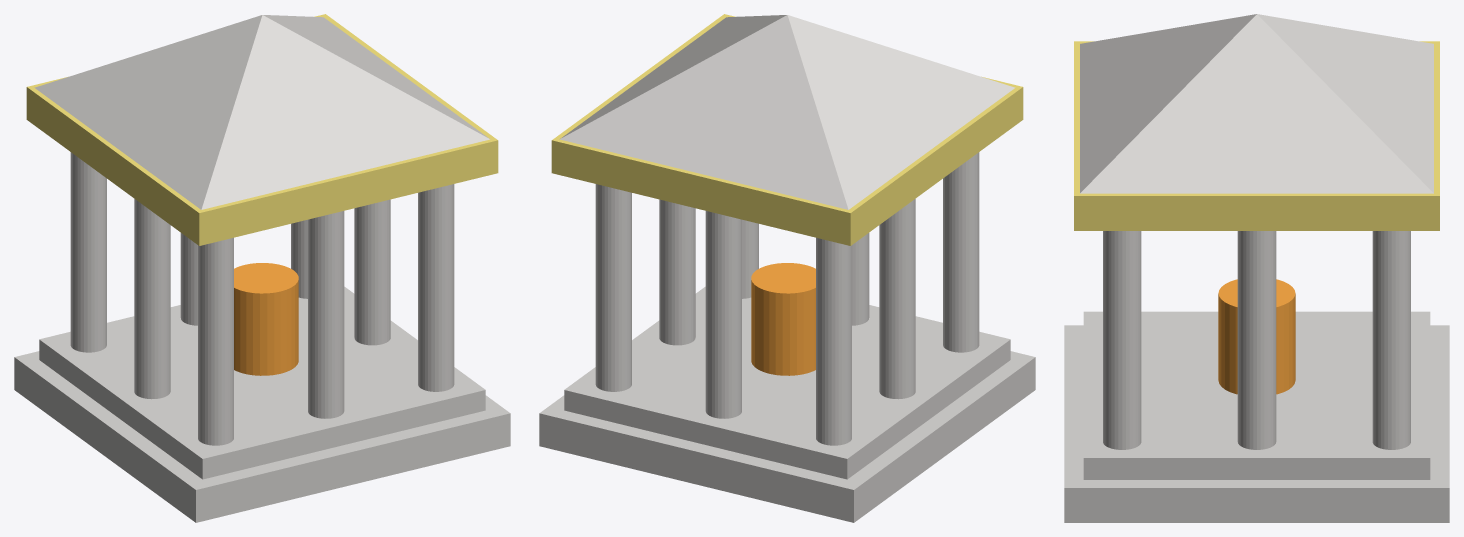
Rendered from temple.glb.
3 views of the same model, side by side, from view 1: azimuth 30°, elevation 25°; view 2: azimuth 150°, elevation 25°; view 3: azimuth 270°, elevation 25° (orthographic). The views are drawn at different scales.
Parts seen in each view (by area): view 1: Cone, Cube.001, Cube, Cube.002, Cylinder.001, Cylinder.002, Cylinder, Cylinder.008, Cylinder.003, Cylinder.006, Cylinder.007, Cylinder.004 (+1 smaller); view 2: Cone, Cube.001, Cube, Cube.002, Cylinder.004, Cylinder.005, Cylinder.003, Cylinder.008, Cylinder, Cylinder.006, Cylinder.007, Cylinder.001 (+1 smaller); view 3: Cone, Cube.001, Cube, Cube.002, Cylinder.007, Cylinder.002, Cylinder.005, Cylinder.008.
Boxes of the visible parts, bbox=[...] form: Cone: bbox=[34, 15, 490, 209]; Cube.001: bbox=[39, 286, 485, 479]; Cube: bbox=[14, 351, 510, 522]; Cube.002: bbox=[26, 14, 498, 245]; Cylinder.001: bbox=[308, 211, 344, 418]; Cylinder.002: bbox=[418, 184, 454, 391]; Cylinder: bbox=[198, 237, 233, 445]; Cylinder.008: bbox=[234, 263, 298, 375]; Cylinder.003: bbox=[70, 152, 106, 352]; Cylinder.006: bbox=[134, 199, 170, 399]; Cylinder.007: bbox=[354, 199, 390, 345]; Cylinder.004: bbox=[180, 233, 197, 325]; Cone: bbox=[559, 15, 1015, 209]; Cube.001: bbox=[564, 286, 1010, 479]; Cube: bbox=[539, 351, 1035, 522]; Cube.002: bbox=[551, 14, 1023, 245]; Cylinder.004: bbox=[705, 211, 741, 418]; Cylinder.005: bbox=[595, 184, 631, 391]; Cylinder.003: bbox=[816, 237, 851, 445]; Cylinder.008: bbox=[751, 263, 815, 375]; Cylinder: bbox=[943, 152, 979, 352]; Cylinder.006: bbox=[879, 199, 915, 399]; Cylinder.007: bbox=[659, 199, 695, 345]; Cylinder.001: bbox=[852, 233, 869, 325]; Cone: bbox=[1080, 14, 1433, 193]; Cube.001: bbox=[1083, 311, 1430, 479]; Cube: bbox=[1064, 325, 1449, 522]; Cube.002: bbox=[1074, 41, 1439, 230]; Cylinder.007: bbox=[1237, 231, 1276, 449]; Cylinder.002: bbox=[1103, 231, 1141, 449]; Cylinder.005: bbox=[1372, 231, 1410, 449]; Cylinder.008: bbox=[1218, 279, 1295, 394].
Bounding box in the file's own units: 4 × 4.9 × 4.
